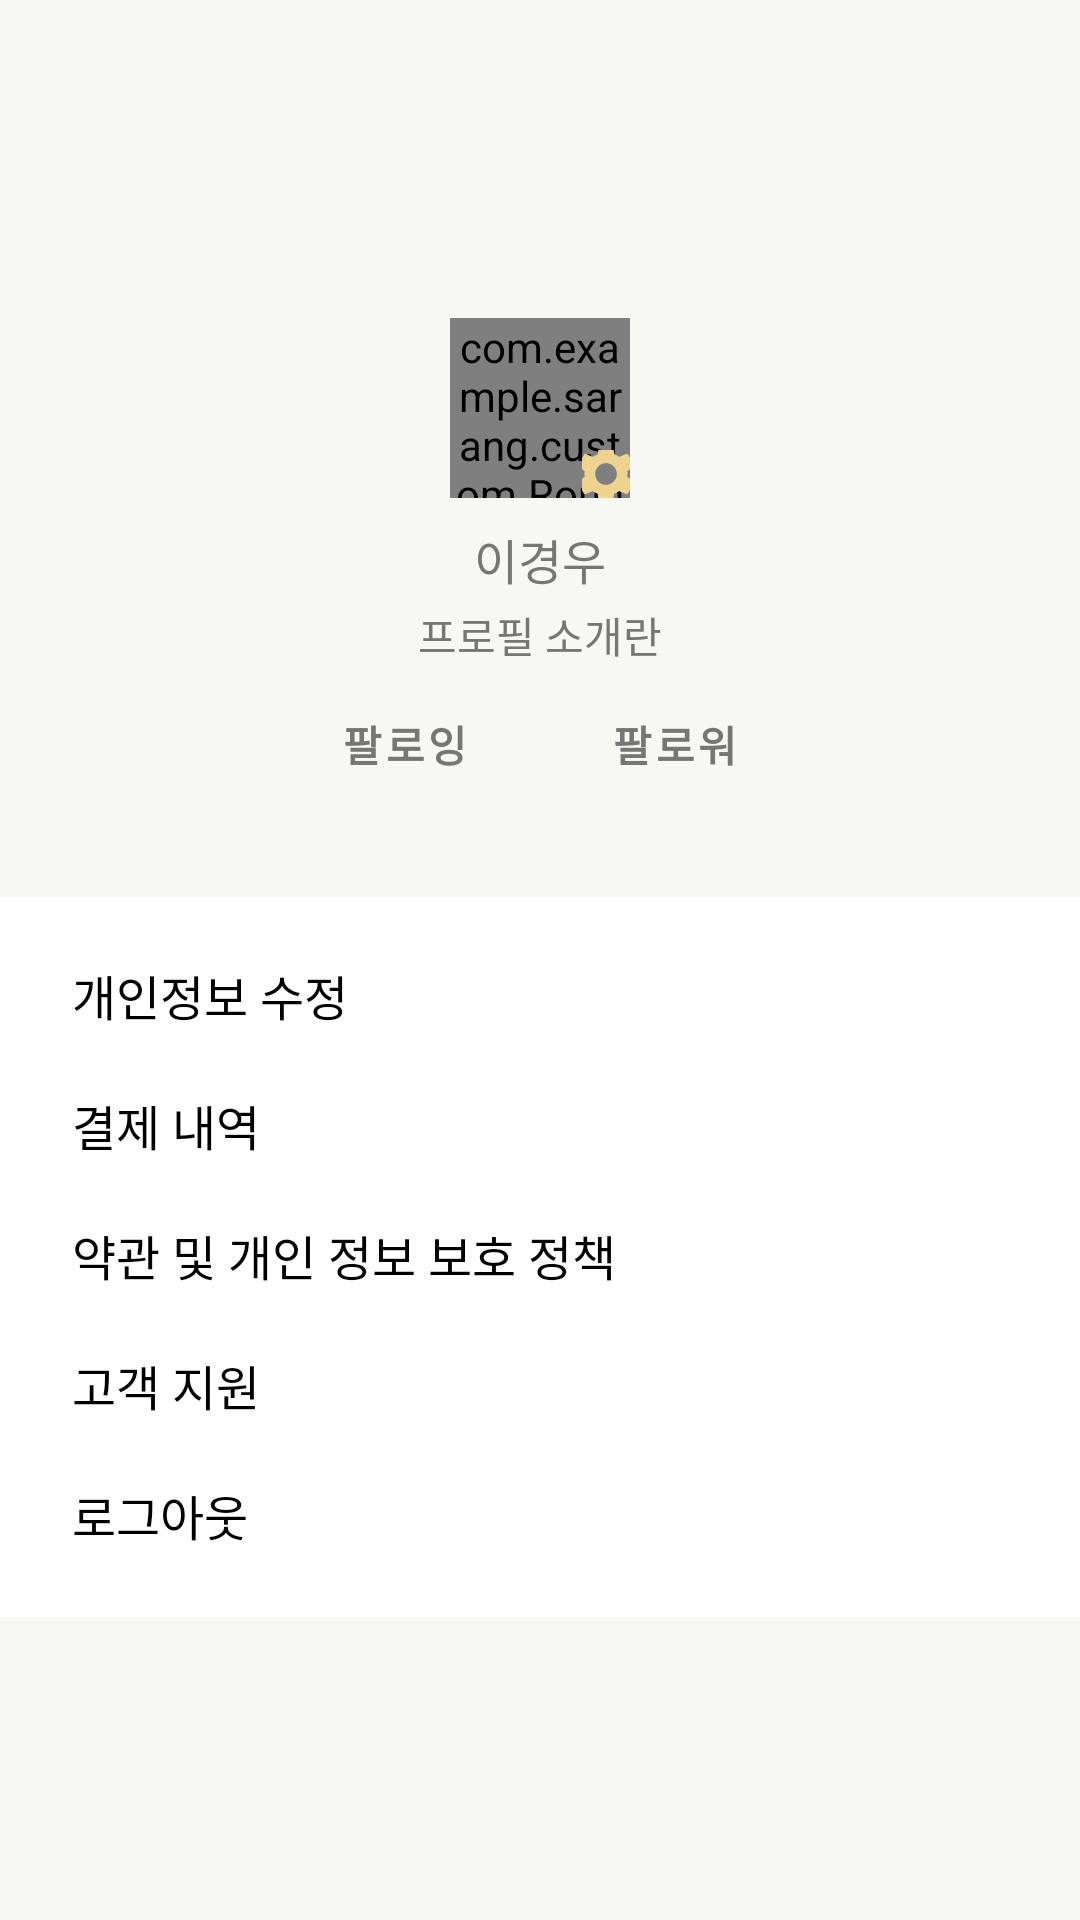

Screen size 1080 x 1920. Icon name, then its center in pixels as point (x, y):
settings: point (606, 474)
